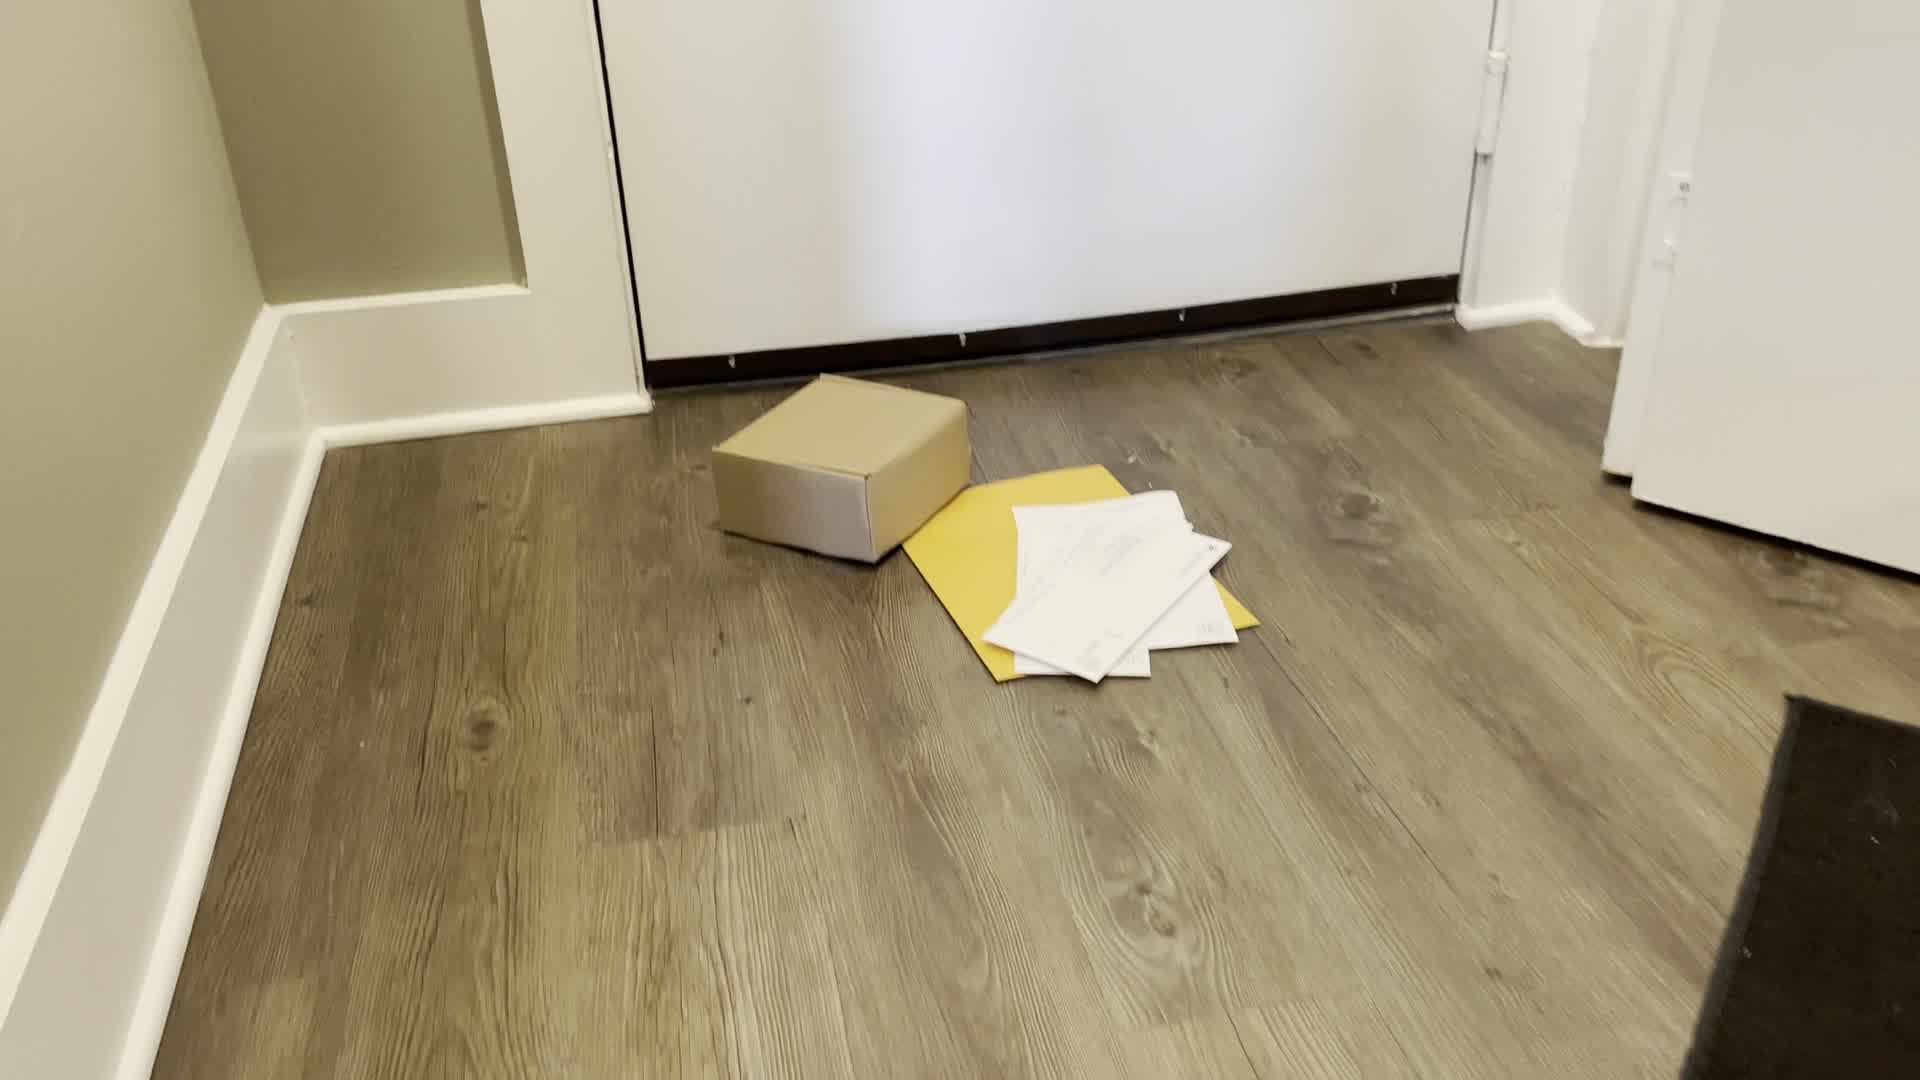box: (705, 367, 982, 567)
envelope: (881, 458, 1269, 694)
